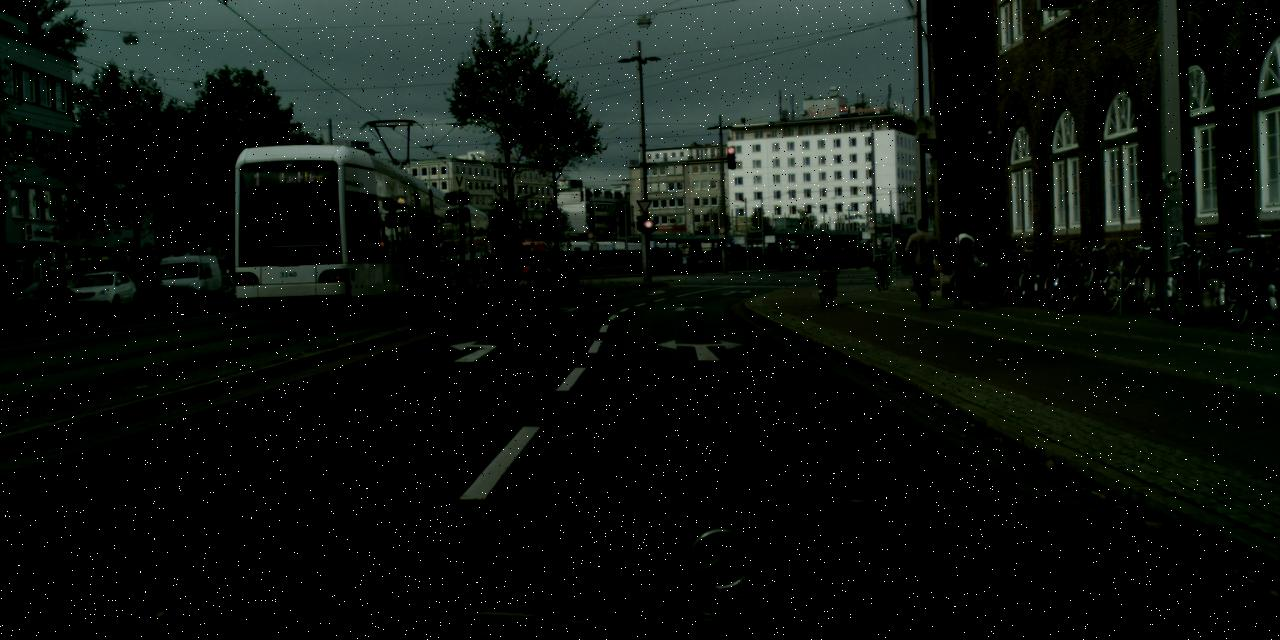ped: (905, 218, 943, 311), (946, 221, 982, 309), (814, 231, 837, 289), (526, 257, 536, 285), (839, 248, 847, 268), (690, 250, 698, 270), (846, 248, 854, 266)
